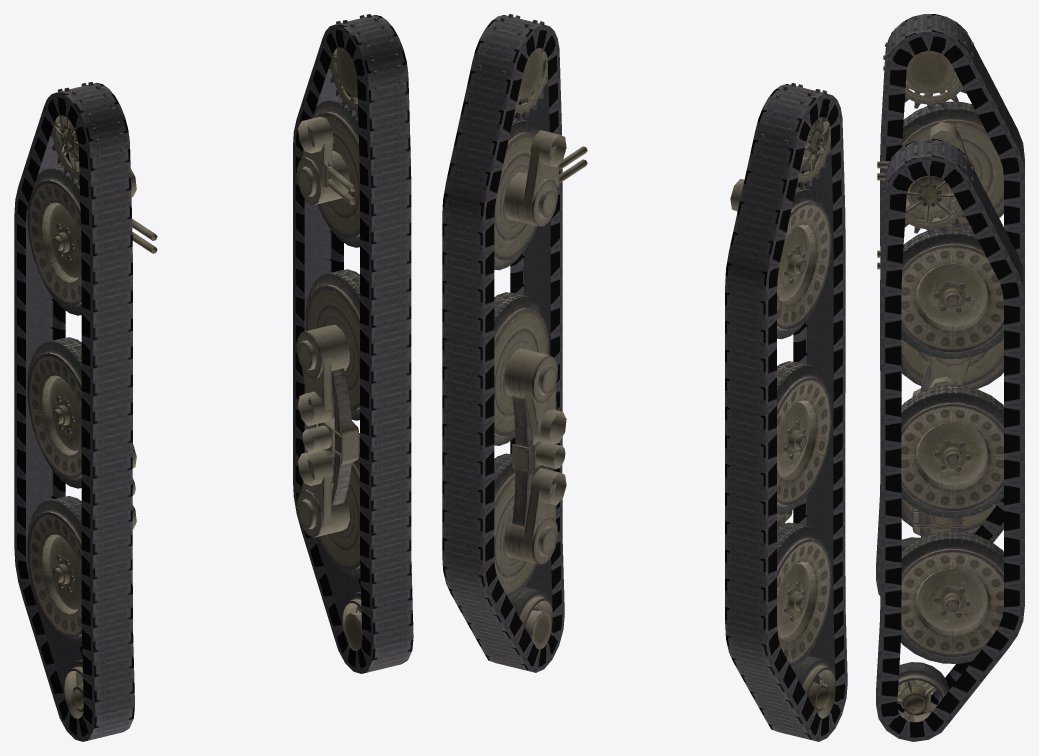
Rendered from Chassis.glb.
3 renders of one model, left to right at view 1: azimuth 30°, elevation 25°; view 2: azimuth 150°, elevation 25°; view 3: azimuth 270°, elevation 25°, orthographic. The views are drawn at different scales.
Parts seen in each view (by area): view 1: set_1_group_0, set_0_group_0, set_3_group_0, set_2_group_0; view 2: set_1_group_0, set_0_group_0, set_3_group_0, set_2_group_0; view 3: set_3_group_0, set_0_group_0, set_2_group_0, set_1_group_0.
Boxes of the visible parts, bbox=[...] form: set_1_group_0: bbox=[14, 82, 134, 741]; set_0_group_0: bbox=[293, 15, 413, 673]; set_3_group_0: bbox=[296, 14, 402, 650]; set_2_group_0: bbox=[27, 82, 157, 718]; set_1_group_0: bbox=[725, 84, 847, 741]; set_0_group_0: bbox=[442, 15, 564, 672]; set_3_group_0: bbox=[477, 14, 587, 649]; set_2_group_0: bbox=[730, 83, 835, 718]; set_3_group_0: bbox=[877, 139, 1003, 722]; set_0_group_0: bbox=[876, 139, 1024, 741]; set_2_group_0: bbox=[877, 14, 1003, 551]; set_1_group_0: bbox=[876, 14, 1024, 595].
Bounding box in the file's own units: 2.6 × 4.92 × 1.13.
4 materials, 4 textured.
